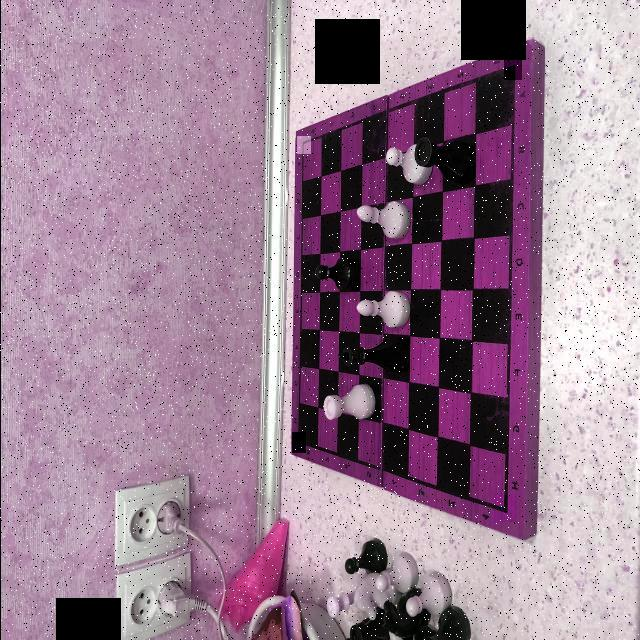chess-table-corners: (492, 494, 516, 522), (503, 53, 521, 80), (292, 432, 306, 453), (296, 136, 310, 154)
